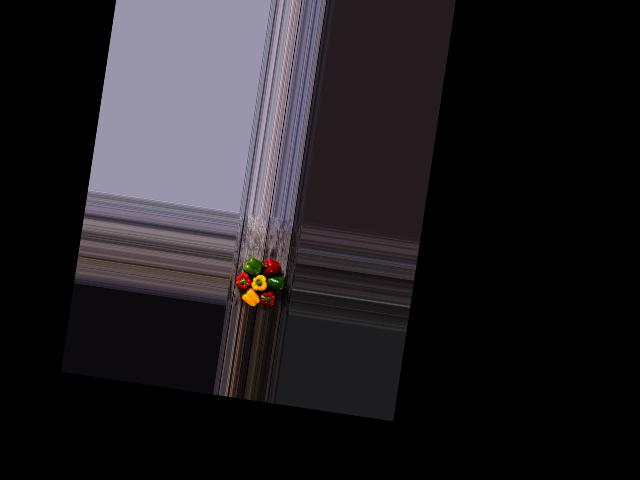bell_pepper: (255, 289, 277, 311)
